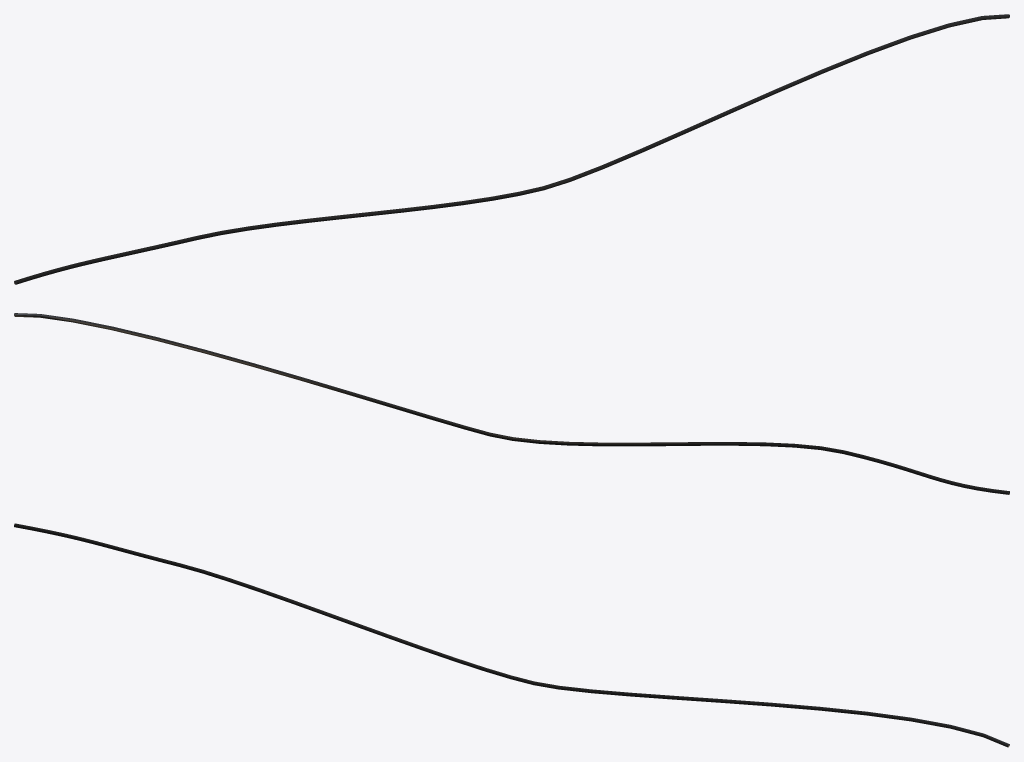
File: CableParteBaja.fbx
3 renders of one model, top to bottom at view 1: azimuth 30°, elevation 25°; view 2: azimuth 150°, elevation 25°; view 3: azimuth 330°, elevation 25°, orthographic. The views are drawn at different scales.
Parts seen in each view (by area): view 1: Curva Bézier; view 2: Curva Bézier; view 3: Curva Bézier.
Boxes of the visible parts, box(x1,y1,x2,y2) form: Curva Bézier: box(14, 14, 1009, 284); Curva Bézier: box(14, 313, 1009, 494); Curva Bézier: box(14, 523, 1009, 747).
Size of the model in its own units: 1148 by 62.06 by 96.69.
